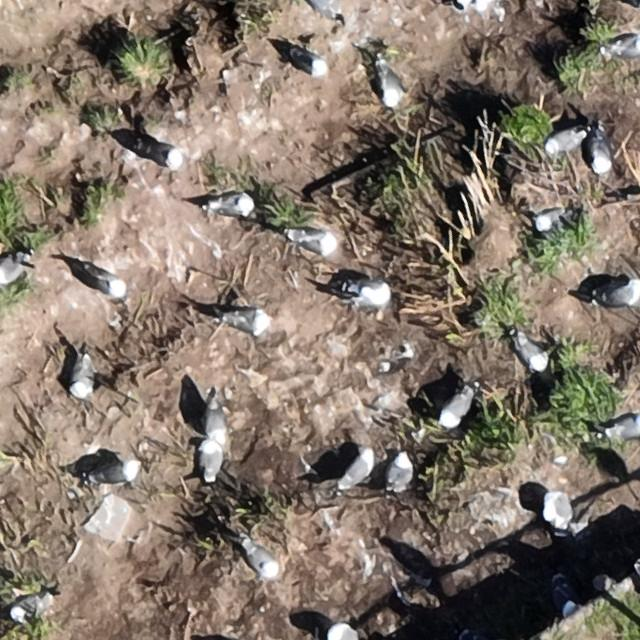umineko: (341, 274, 394, 318), (539, 482, 579, 532), (65, 349, 94, 400), (204, 391, 230, 445), (596, 278, 639, 308), (247, 542, 279, 576), (341, 454, 372, 486), (516, 336, 545, 370), (90, 268, 124, 296), (378, 67, 402, 106), (93, 463, 136, 484), (12, 592, 47, 617), (443, 393, 470, 425), (228, 311, 268, 332), (296, 232, 334, 254), (143, 144, 179, 167), (212, 194, 252, 214), (389, 455, 412, 489), (546, 130, 581, 152), (291, 50, 323, 74), (200, 440, 220, 478), (608, 414, 640, 436), (591, 139, 610, 175), (609, 37, 640, 59), (1, 258, 24, 284), (305, 0, 338, 17), (536, 212, 562, 232), (328, 623, 355, 640), (468, 0, 501, 13)
